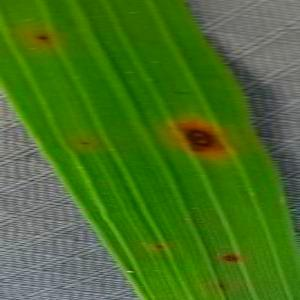0 BrownSpot: (162, 110, 237, 169), (166, 84, 197, 99), (215, 250, 242, 265), (32, 30, 53, 44), (149, 240, 170, 254), (213, 280, 231, 294), (75, 136, 94, 149)
